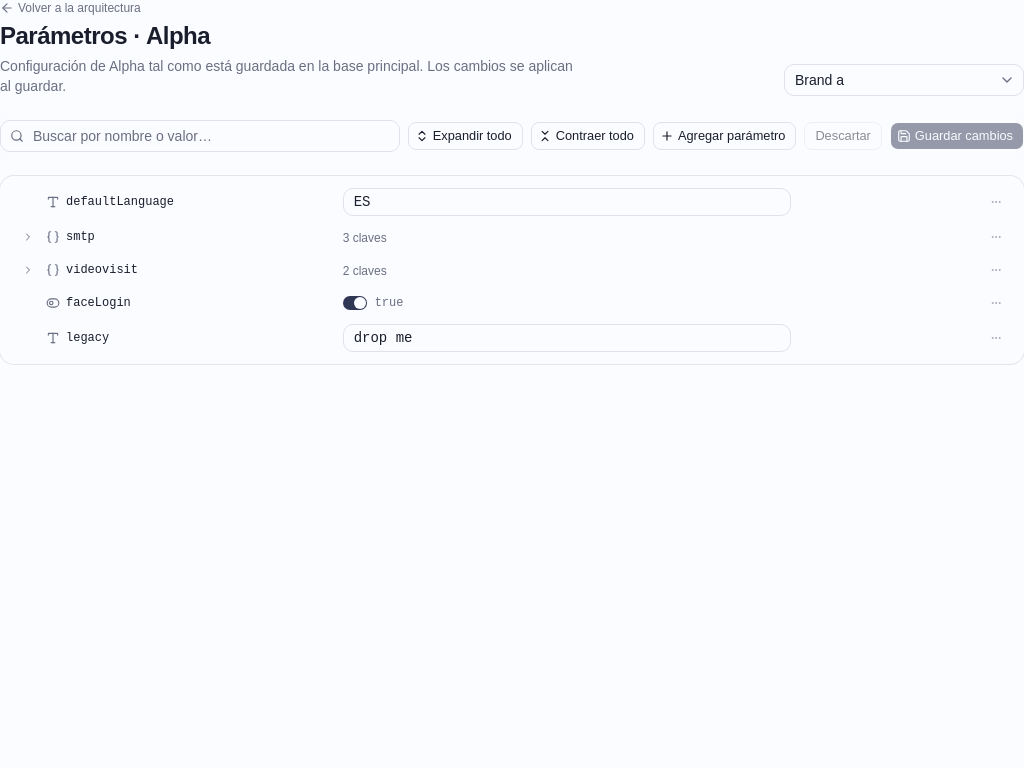
it: BrandParamsScreen › discarding asks first and restores the loaded values
Click the button named "Expandir o contraer smtp" at (28, 237), box left=16, top=225, right=40, bottom=249
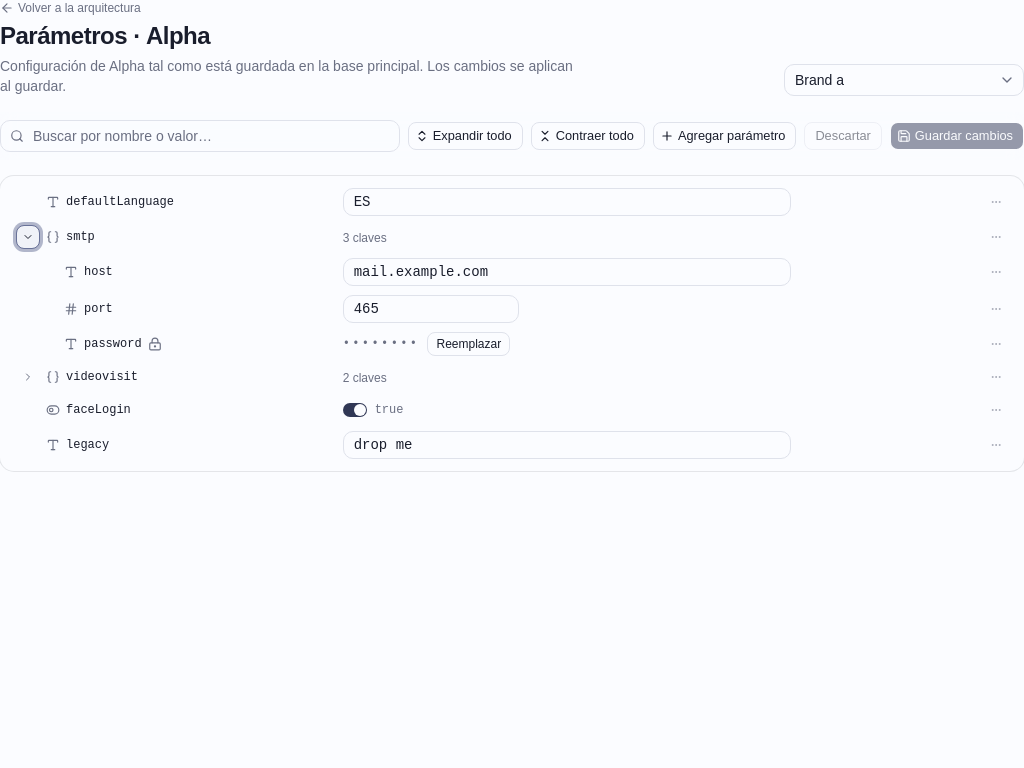
Clear the number field named "smtp.port" at (431, 309), box left=343, top=295, right=519, bottom=323
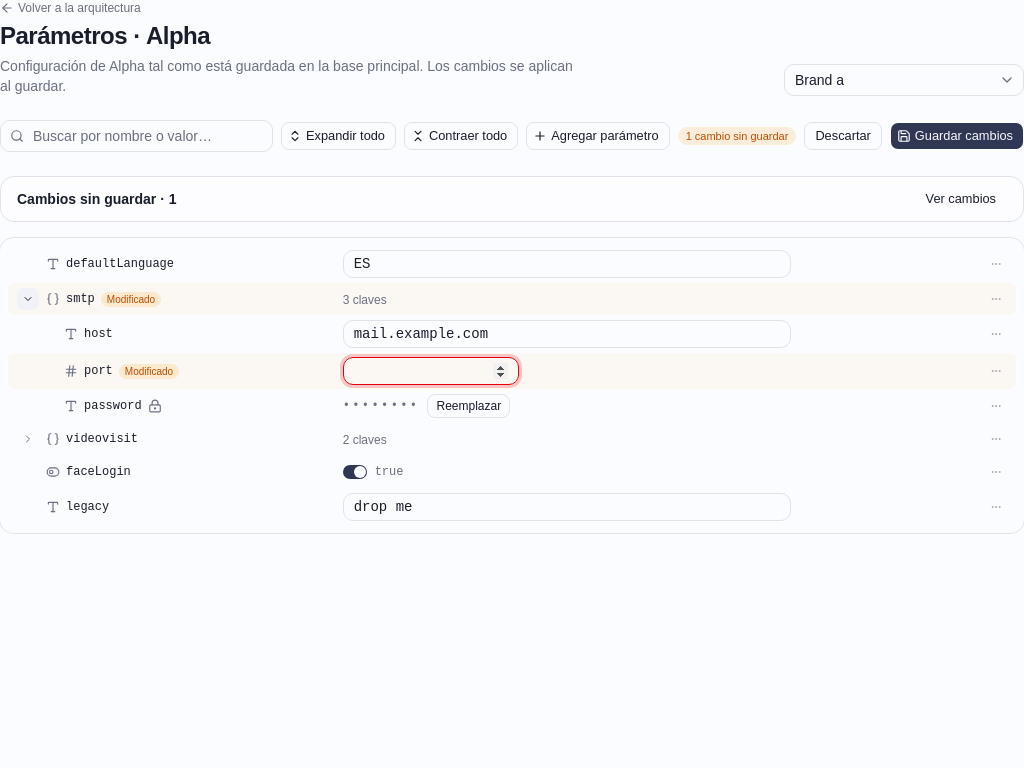
Type "1" into the number field named "smtp.port" at (431, 371), box left=343, top=357, right=519, bottom=385
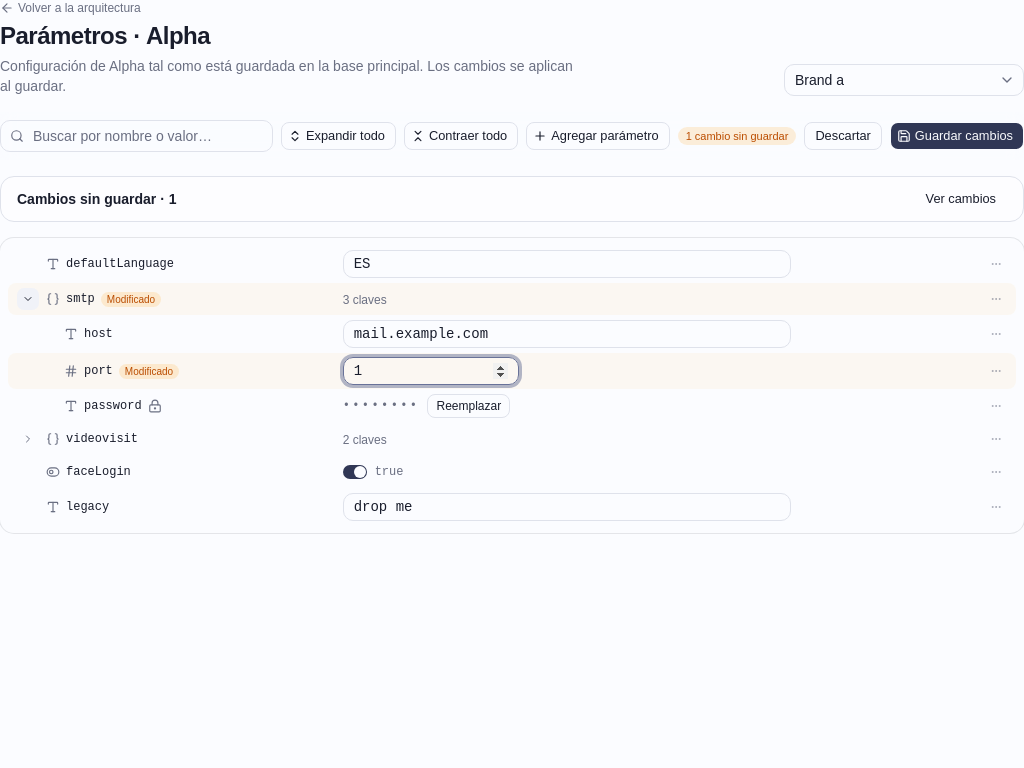
Click the button "Descartar" at (843, 136), box left=804, top=122, right=882, bottom=150
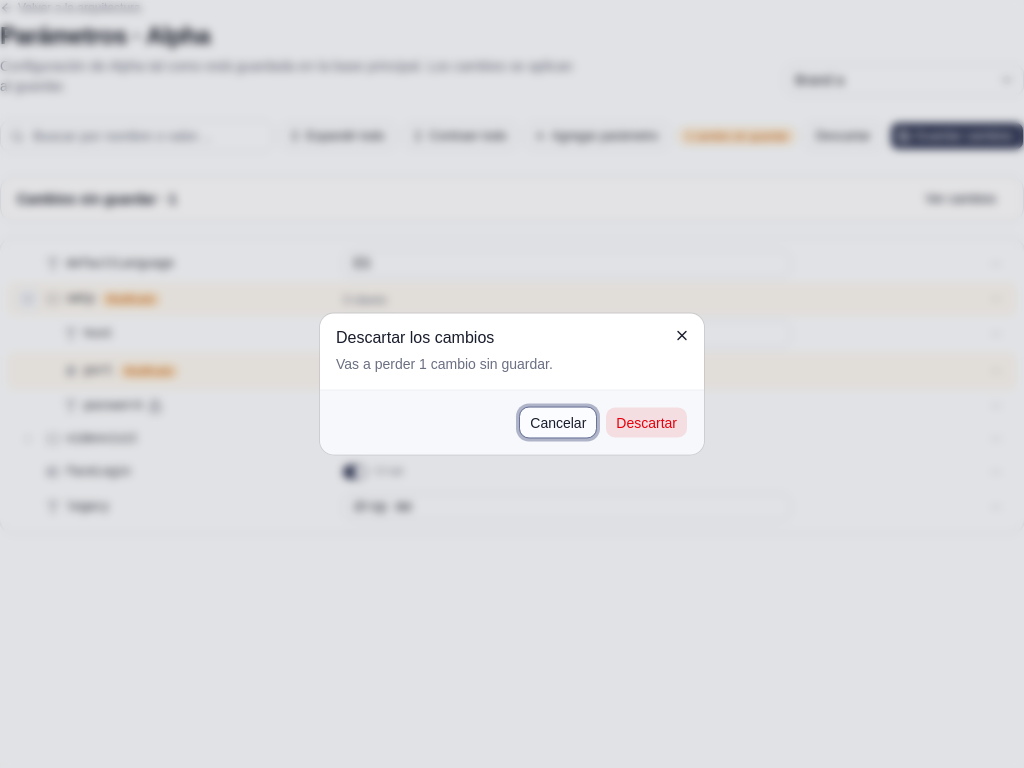
Check: the dialog shows "Vas a perder 1 cambio sin guardar.", box left=336, top=356, right=553, bottom=372
Click the button "Descartar" at (647, 422), box left=605, top=406, right=688, bottom=438
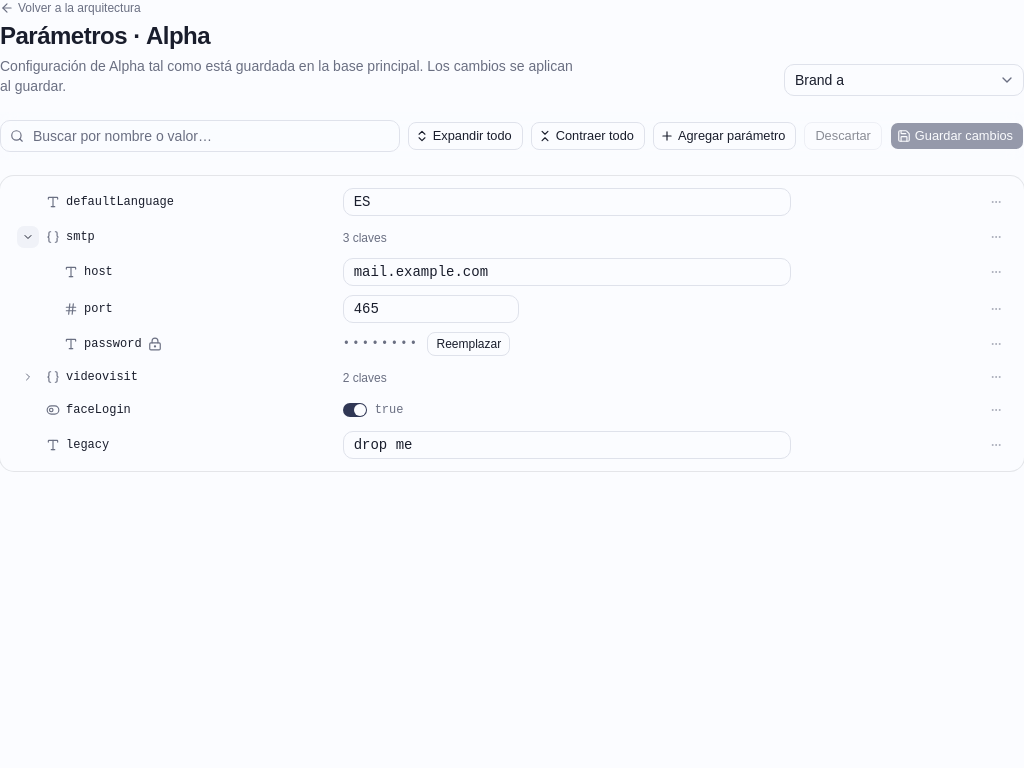
Check: the number field named "smtp.port" holds "465", box left=343, top=295, right=519, bottom=323
Check: the heading "Cambios sin guardar" is gone
